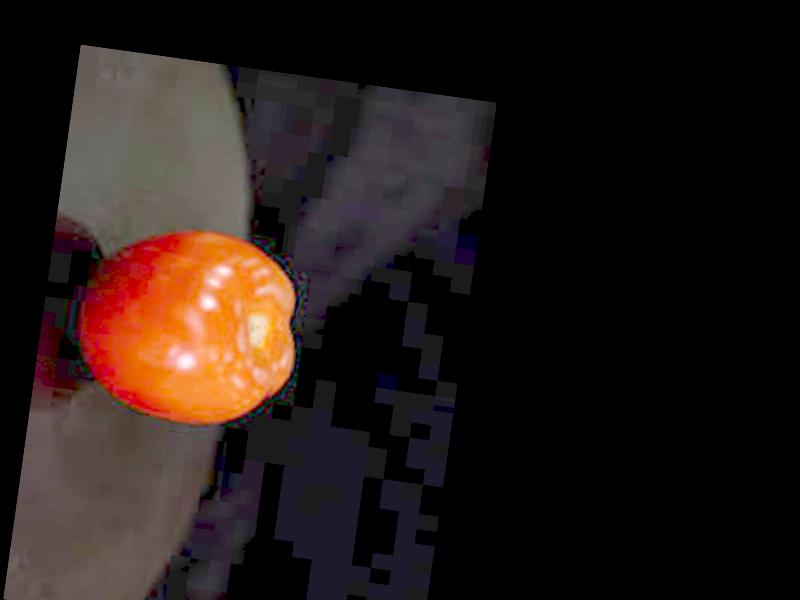Tomato: (67, 214, 312, 439)
